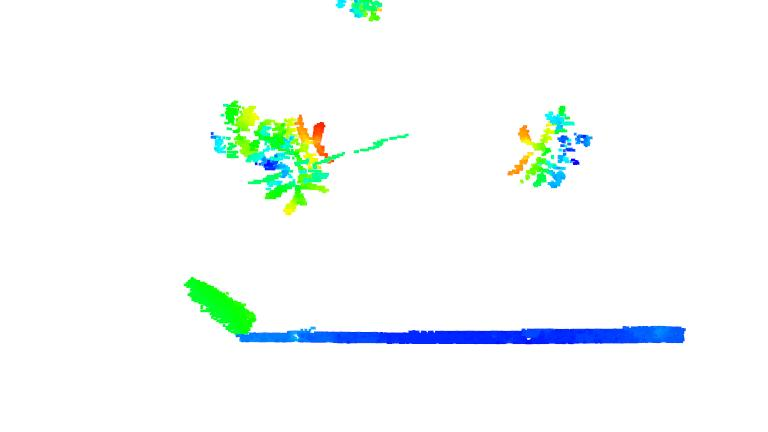chickpea: (505, 103, 590, 192), (262, 112, 331, 216), (207, 105, 262, 176)
